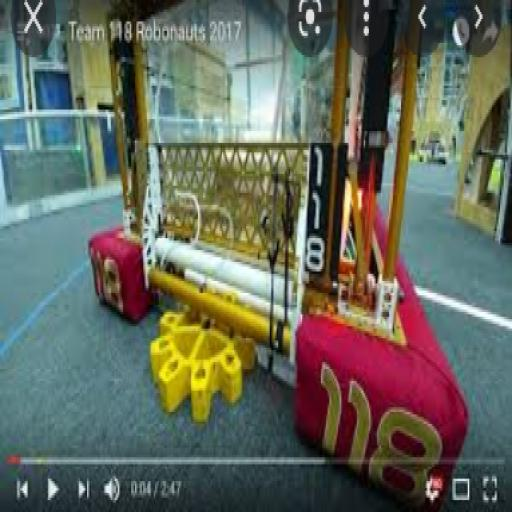robot: (87, 7, 458, 503)
